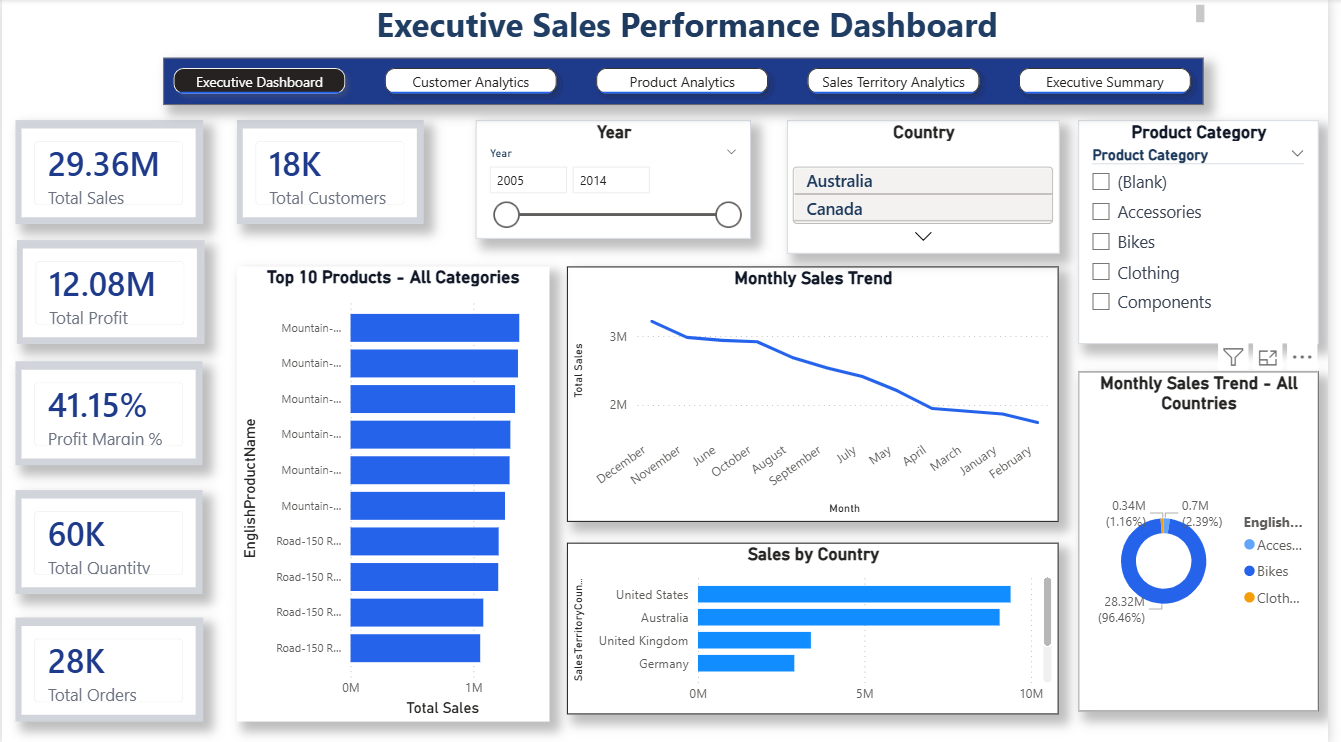

The page's visual inventory and layout, read from the dashboard file:
{"tool":"powerbi","page":{"name":"Executive  Dashboard","canvas":[1280,720],"ordinal":0},"visuals":[{"type":"textbox","box":[165.3,0,1000.1,45.8],"z":0},{"type":"cardVisual","fields":{"Data":["Measuress.Total Sales"]},"box":[13.3,117,181,100.1],"z":1000},{"type":"cardVisual","fields":{"Data":["Measuress.Total Profit"]},"box":[14.5,232.8,181,100.1],"z":2000},{"type":"cardVisual","fields":{"Data":["Measuress.Profit Margin %"]},"box":[13.3,349.9,180,100.1],"z":3000},{"type":"cardVisual","fields":{"Data":["Measuress.Total Orders"]},"box":[13.3,597.2,181,100.1],"z":4000},{"type":"cardVisual","fields":{"Data":["Measuress.Total Customers"]},"box":[226.8,117,180,100.1],"z":5000},{"type":"cardVisual","fields":{"Data":["Measuress.Total Quantity"]},"box":[13.3,474.1,180,100.1],"z":6000},{"type":"lineChart","title":"Monthly Sales Trend","fields":{"Category":["Date.Month"],"Y":["Measuress.Total Sales"]},"box":[545.3,258.2,474.1,246.1],"z":7000},{"type":"barChart","fields":{"Category":["Product.EnglishProductName"],"Y":["Measuress.Total Sales"]},"box":[226.8,258.2,301.6,439.1],"z":8000},{"type":"slicer","title":"Year","fields":{"Values":["Date.Year"]},"box":[457.2,117,265.4,114.6],"z":9000},{"type":"cardVisual","title":"Country","fields":{"Rows":["SalesTerritory.SalesTerritoryCountry"]},"box":[757.6,117,263,129.1],"z":10000},{"type":"slicer","title":"Product  Category","fields":{"Values":["ProductCategory.EnglishProductCategoryName"]},"box":[1038.7,117,231.6,216],"z":11000},{"type":"pageNavigator","box":[155.6,56.7,1003.8,45.8],"z":12000},{"type":"clusteredBarChart","title":"Sales by Country","fields":{"Category":["SalesTerritory.SalesTerritoryCountry"],"Y":["Measuress.Total Sales"]},"box":[545.3,524.8,474.1,165.3],"z":13000},{"type":"donutChart","fields":{"Y":["Measuress.Total Sales"],"Series":["ProductCategory.EnglishProductCategoryName"]},"box":[1038.7,359.5,231.6,328.2],"z":14000}]}

Visuals, with their boxes in screenshot pixels (x1, y1, x2, y2), scaled from the page's 1280x720 canvas onto the 1341x742 screenshot:
textbox: [173,0,1221,47]
cardVisual - Measuress.Total Sales: [14,121,204,224]
cardVisual - Measuress.Total Profit: [15,240,205,343]
cardVisual - Measuress.Profit Margin %: [14,361,203,464]
cardVisual - Measuress.Total Orders: [14,615,204,719]
cardVisual - Measuress.Total Customers: [238,121,426,224]
cardVisual - Measuress.Total Quantity: [14,489,203,592]
"Monthly Sales Trend" lineChart: [571,266,1068,520]
barChart - Product.EnglishProductName x Measuress.Total Sales: [238,266,554,719]
"Year" slicer: [479,121,757,239]
"Country" cardVisual: [794,121,1069,254]
"Product  Category" slicer: [1088,121,1331,343]
pageNavigator: [163,58,1215,106]
"Sales by Country" clusteredBarChart: [571,541,1068,711]
donutChart - Measuress.Total Sales x ProductCategory.EnglishProductCategoryName: [1088,370,1331,709]
